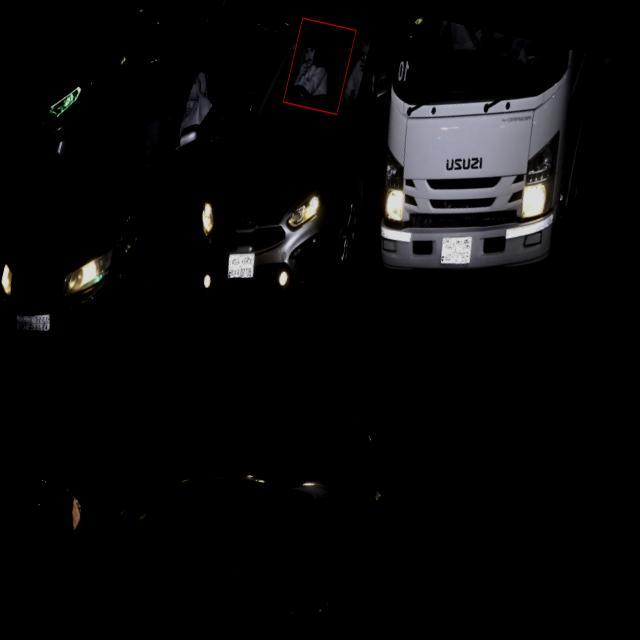windshield: (398, 17, 572, 109), (272, 22, 399, 118), (53, 90, 166, 194)
